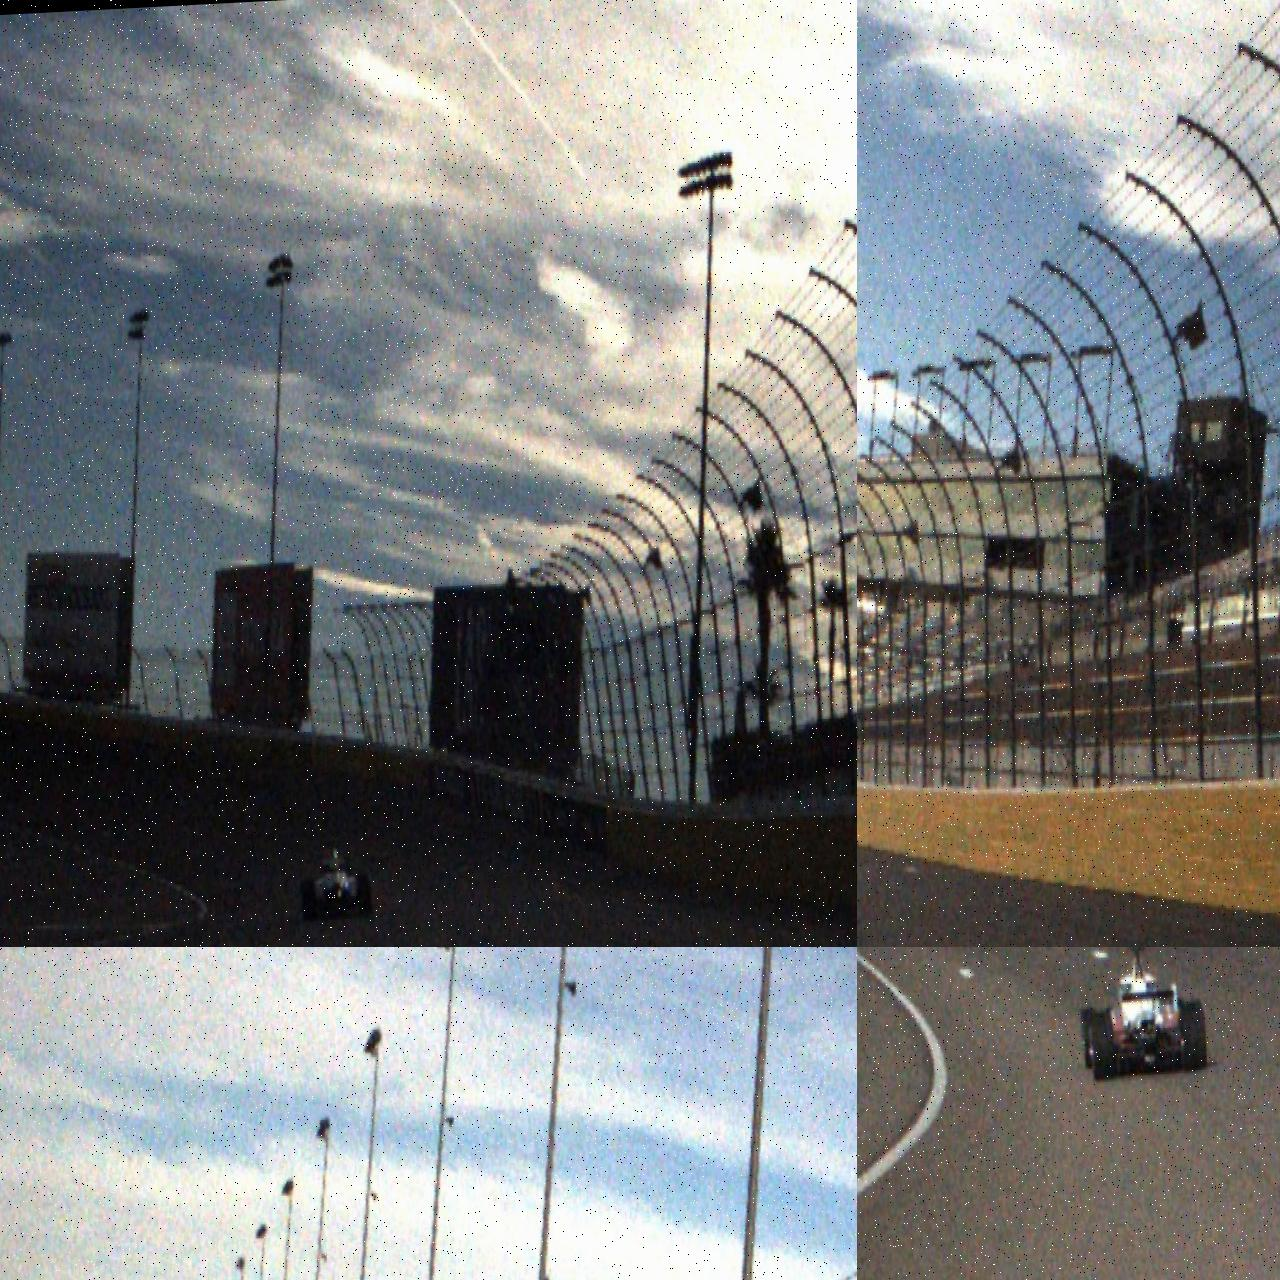AV: (1077, 947, 1208, 1082), (298, 839, 372, 920)
Wheel: (1180, 998, 1207, 1073), (1088, 1012, 1115, 1082), (1081, 1007, 1101, 1069), (354, 873, 372, 914), (300, 878, 316, 919)
